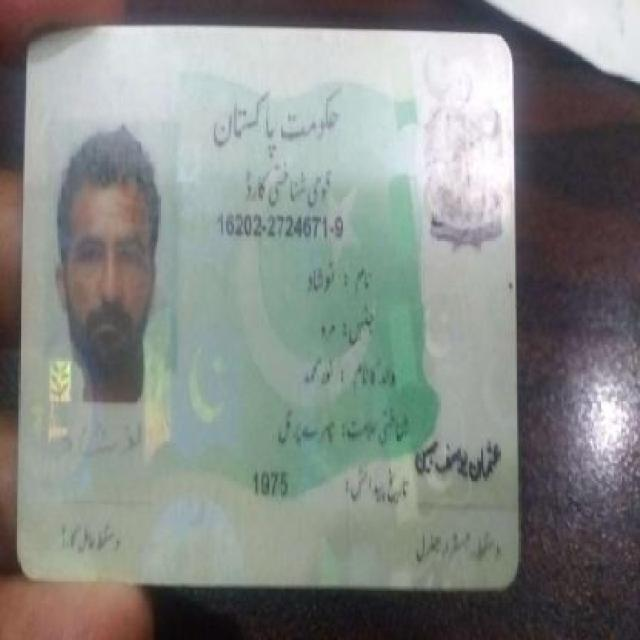Front: (15, 17, 528, 611)
